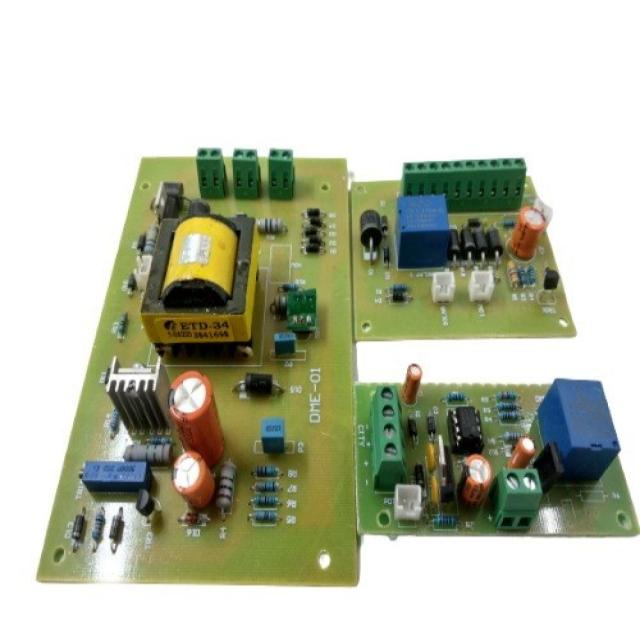pcb: (29, 135, 358, 610), (354, 374, 638, 538), (348, 156, 576, 340), (130, 184, 264, 360), (534, 376, 621, 481), (398, 156, 527, 213), (78, 458, 152, 493)
